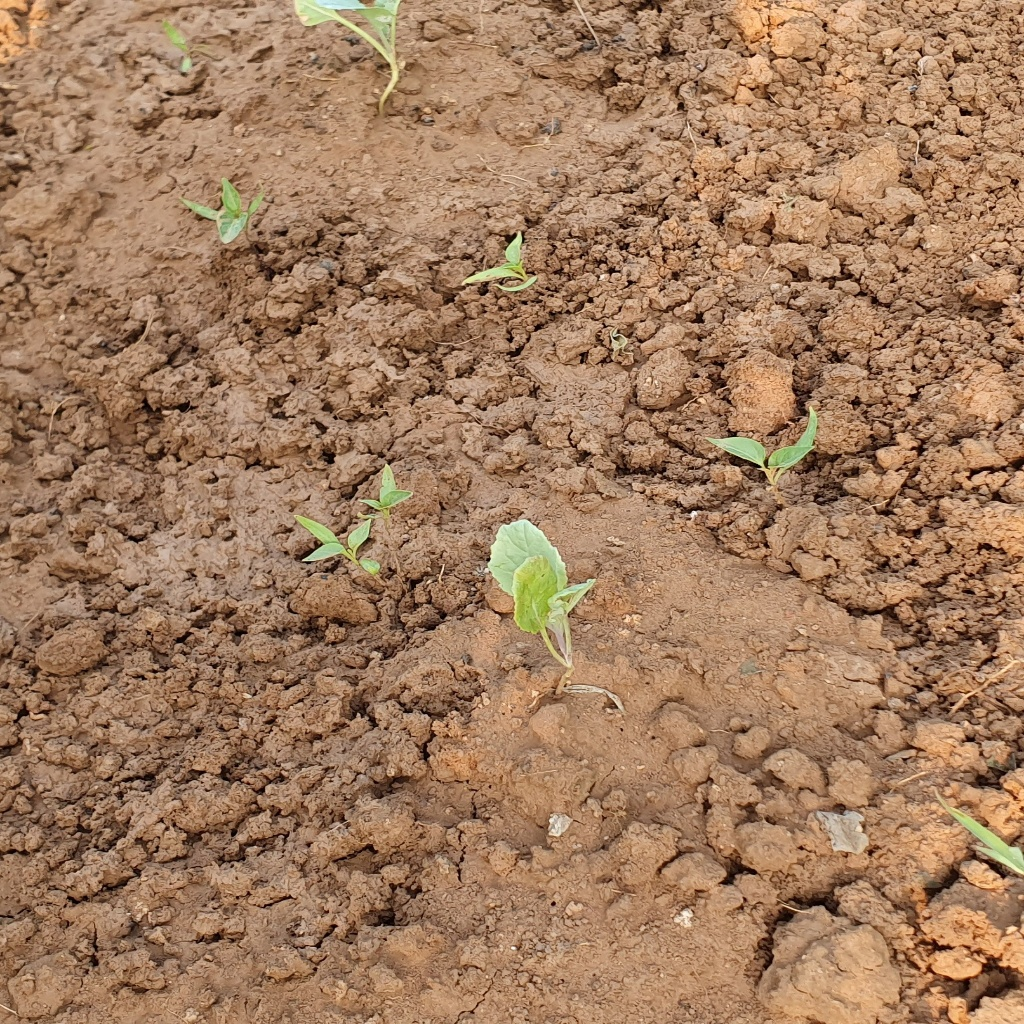crop: (472, 514, 605, 692)
weed: (712, 420, 821, 482), (297, 514, 379, 571), (190, 181, 265, 235), (463, 240, 532, 293), (163, 22, 200, 77)
